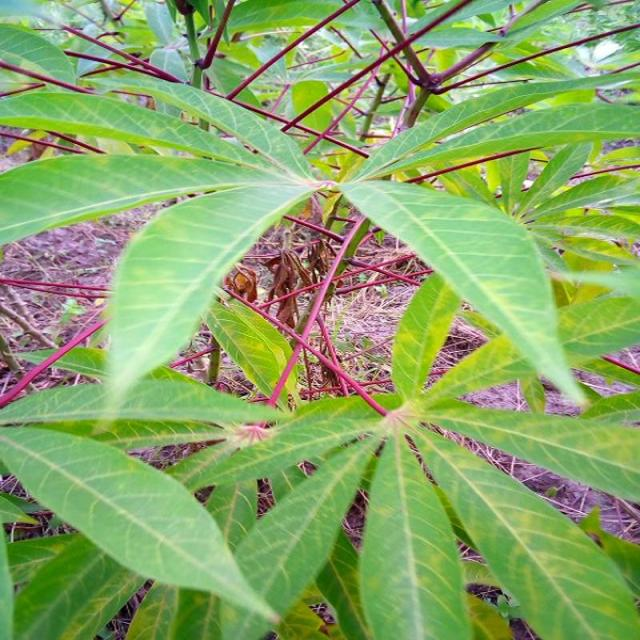cassava leaf: (1, 1, 638, 638), (338, 175, 588, 410), (0, 422, 280, 628), (102, 176, 318, 398)
